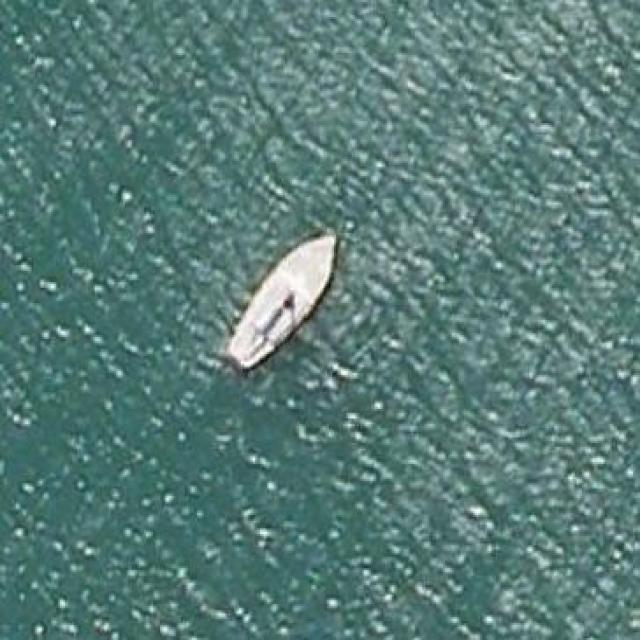ship: (222, 231, 338, 373)
